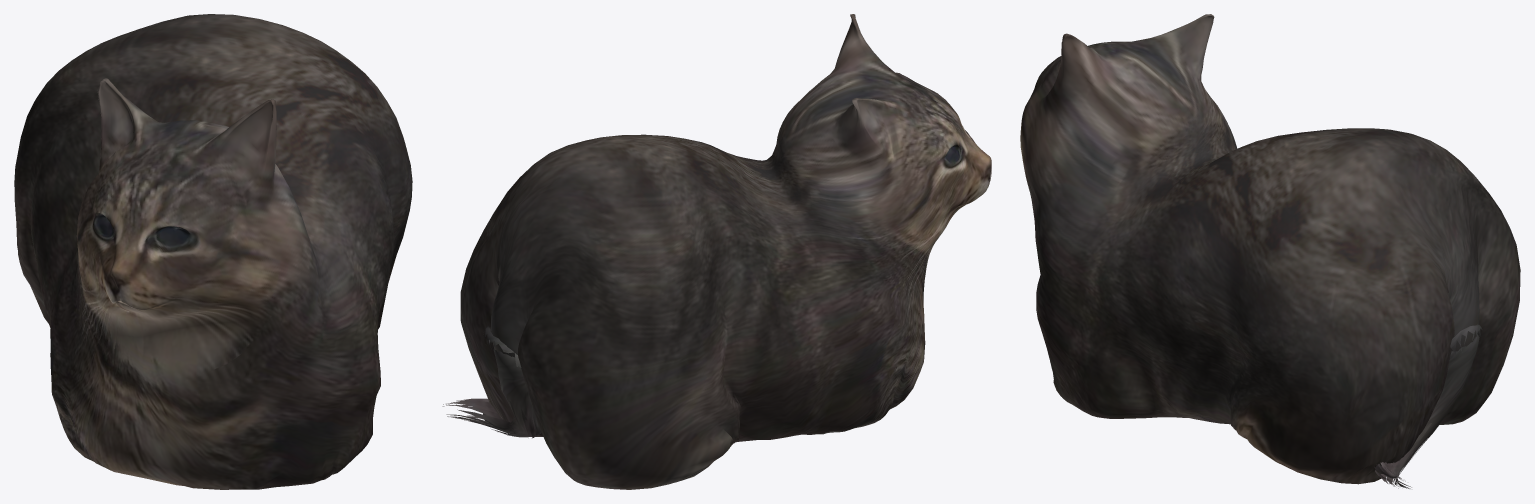
The model's file is oiiaioooooiai.obj.
The picture shows the model from 3 angles, left to right: view 1: azimuth 30°, elevation 25°; view 2: azimuth 150°, elevation 25°; view 3: azimuth 270°, elevation 25°; orthographic projection. The views are drawn at different scales.
Parts seen in each view (by area): view 1: Muchkin1.002; view 2: Muchkin1.002; view 3: Muchkin1.002.
Boxes of the visible parts, x1=… form: Muchkin1.002: x1=14, y1=14, x2=412, y2=489; Muchkin1.002: x1=442, y1=14, x2=991, y2=489; Muchkin1.002: x1=1020, y1=14, x2=1520, y2=488.
Size of the model in its own units: 0.3472 by 0.3106 by 0.3918.
1 material, 1 textured.
